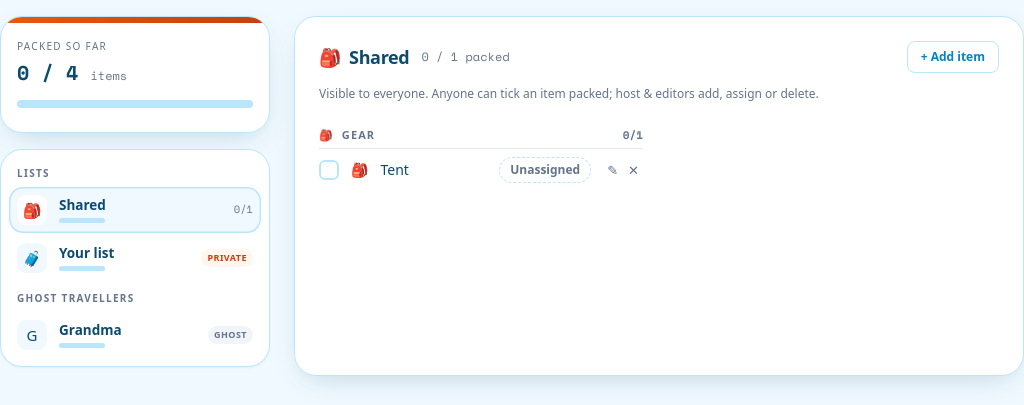
it: Packing › switches to your own list and hides other members' personal items
This screenshot has width=1024, height=405.
Click the button "🧳 Your list Private" at point(135, 258), box left=9, top=235, right=261, bottom=281
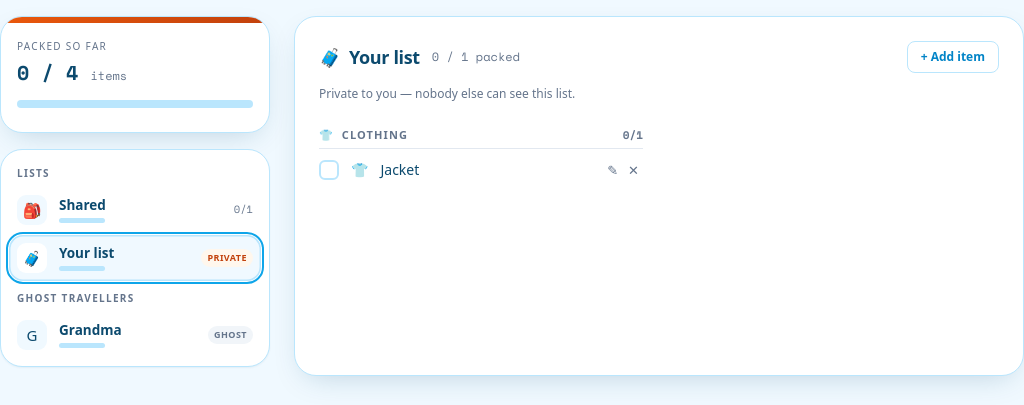
Check: the text "Jacket" is shown, box left=380, top=159, right=419, bottom=180
